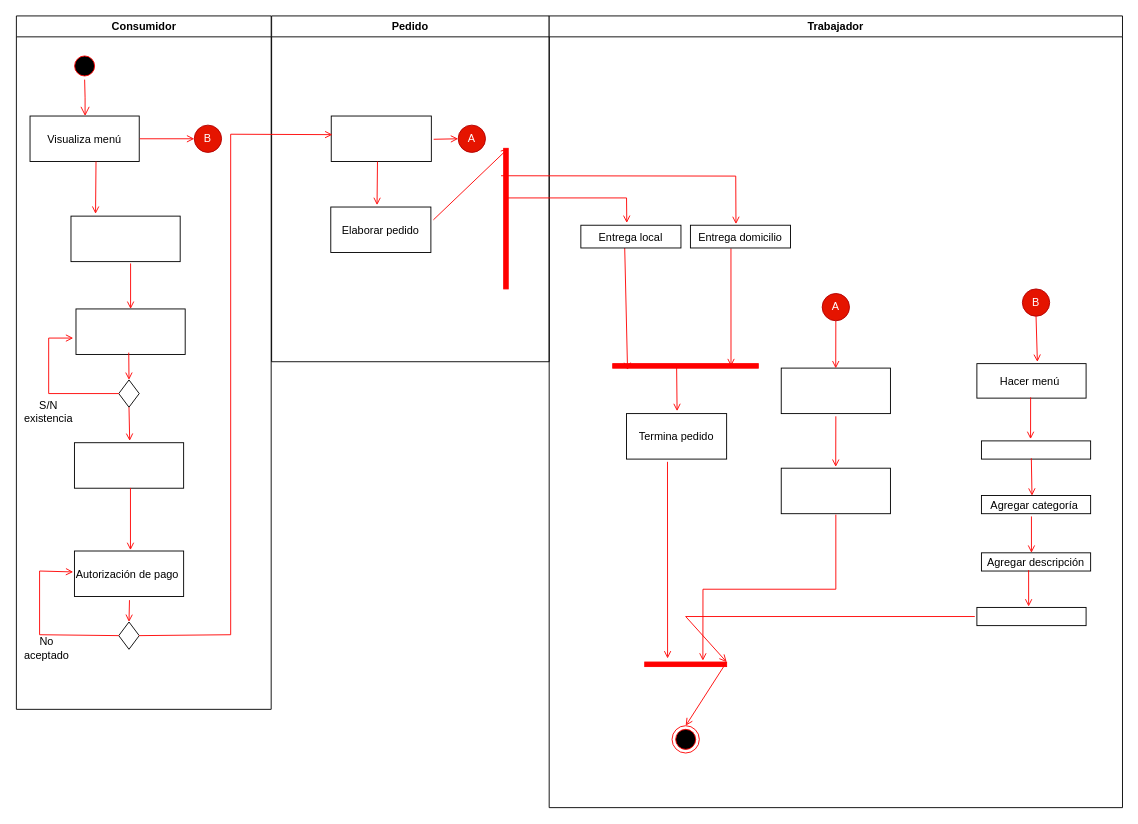
Some shapes in this 1138 by 824 pixel diagram are drawn without their labels. The shapes that lost their labels are listed below. From the top down, each one's centre as x and y in pixels, then its label:
the point at 380,138: Registra pago
the point at 125,238: Agrega al carro
the point at 130,331: Existencia de alimentos
the point at 835,390: Visualizar pedido
the point at 129,465: Pagar pedido
the point at 1036,449: Agregar producto
the point at 835,490: Visualizar ventas
the point at 1031,616: Confirmar producto
